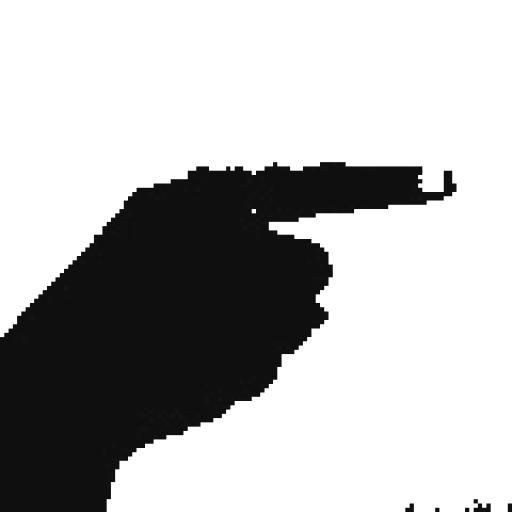index_left: (0, 160, 458, 381)
